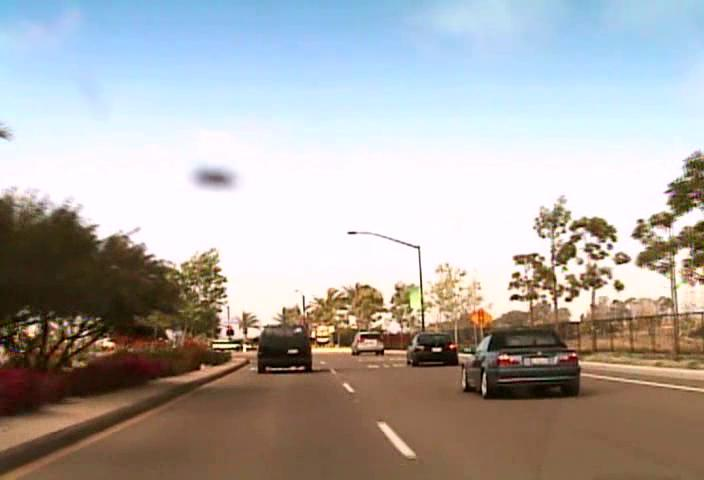signalAhead: (469, 307, 492, 329)
